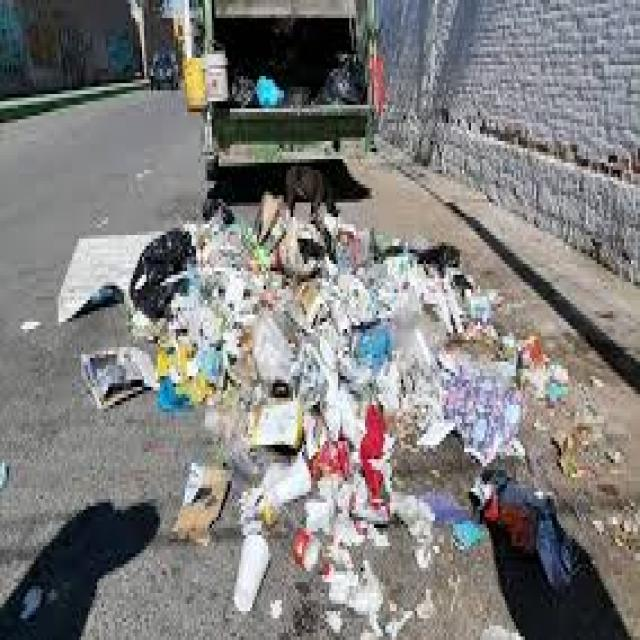garbage: (59, 207, 567, 610)
